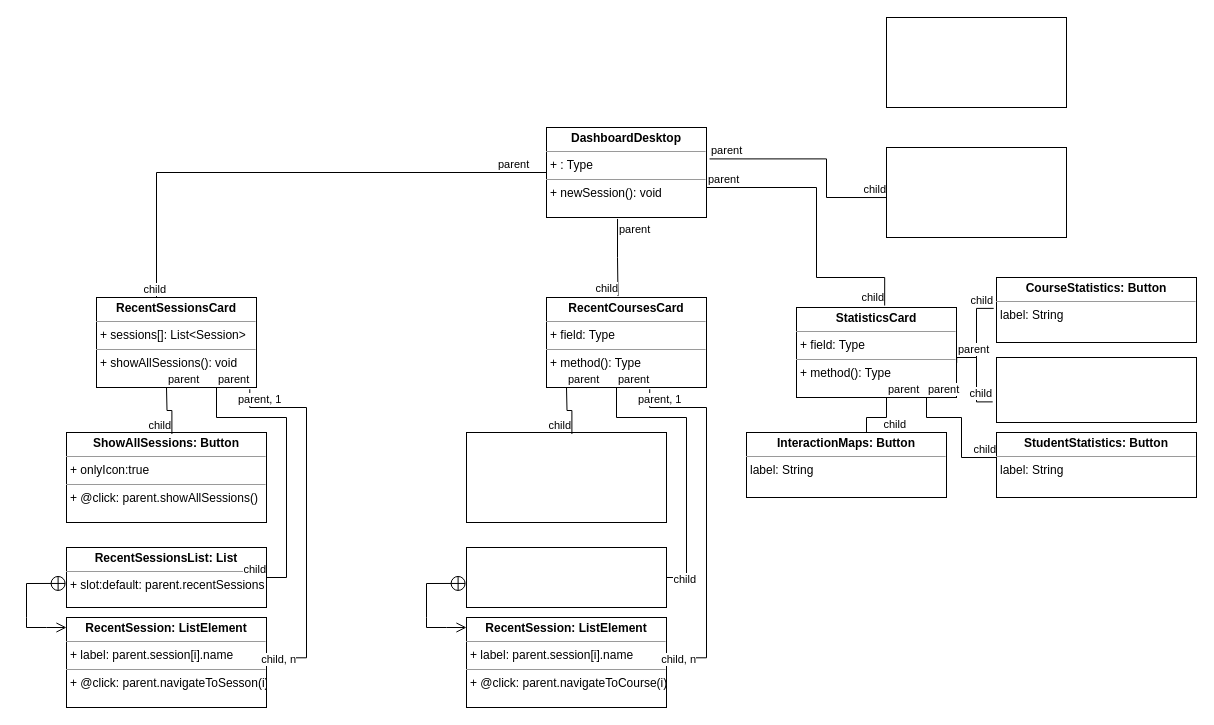
The diagram is 1214 pixels wide and 725 high, and some of its shapes have lost their labels. The shapes that lost their labels are listed below. From the top down, each one's centre as x and y in pixels, then its label:
(x=976, y=62): Sidemenu + field: Type + method(): Type
(x=976, y=192): NewSessionButton:Button + label: "Neue Sitzung" + @click: parent.newSession()
(x=1096, y=389): SessionStatistics: Button label: String
(x=566, y=477): ShowAllCourses: Button + onlyIcon:true + @click: parent.showAllCourses()
(x=566, y=577): RecentSessionsList: List + slot:default: parent.recentCourses
